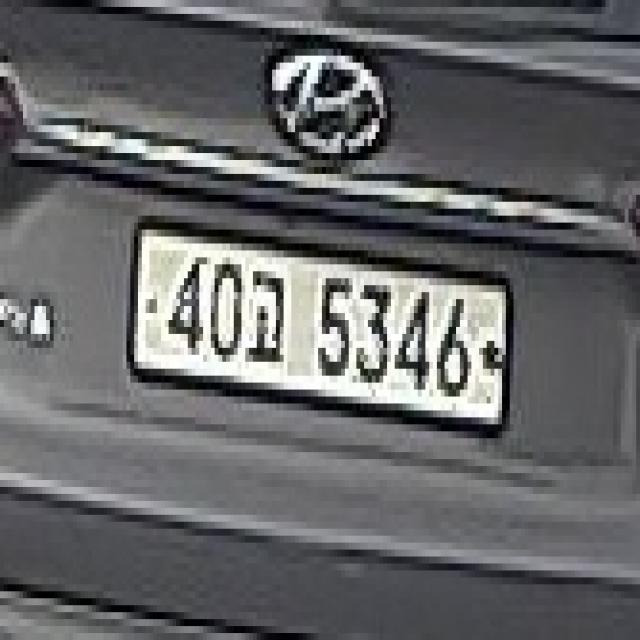0: (203, 250, 242, 362)
3: (352, 278, 391, 390)
4: (391, 285, 433, 397), (165, 250, 203, 362)
5: (314, 271, 353, 383)
6: (433, 292, 471, 404)
go: (245, 264, 284, 369)
license_plate: (122, 209, 514, 445)
